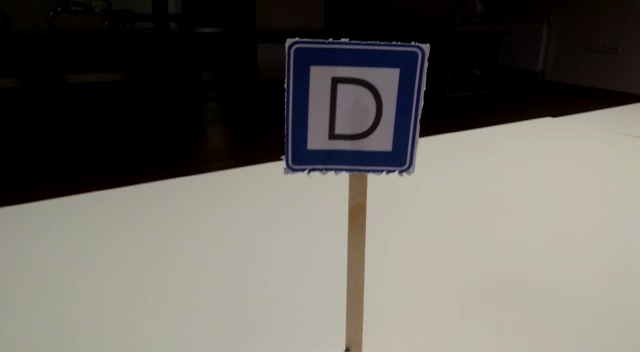durak: (282, 43, 423, 173)
